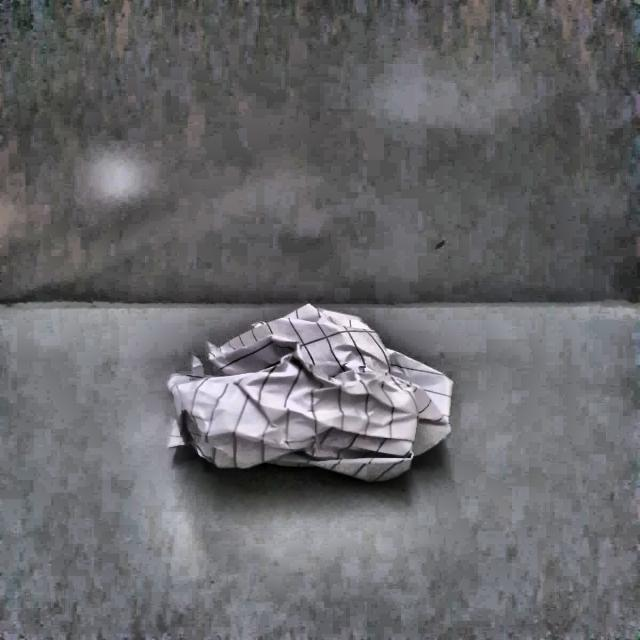Paper: (140, 303, 470, 488)
